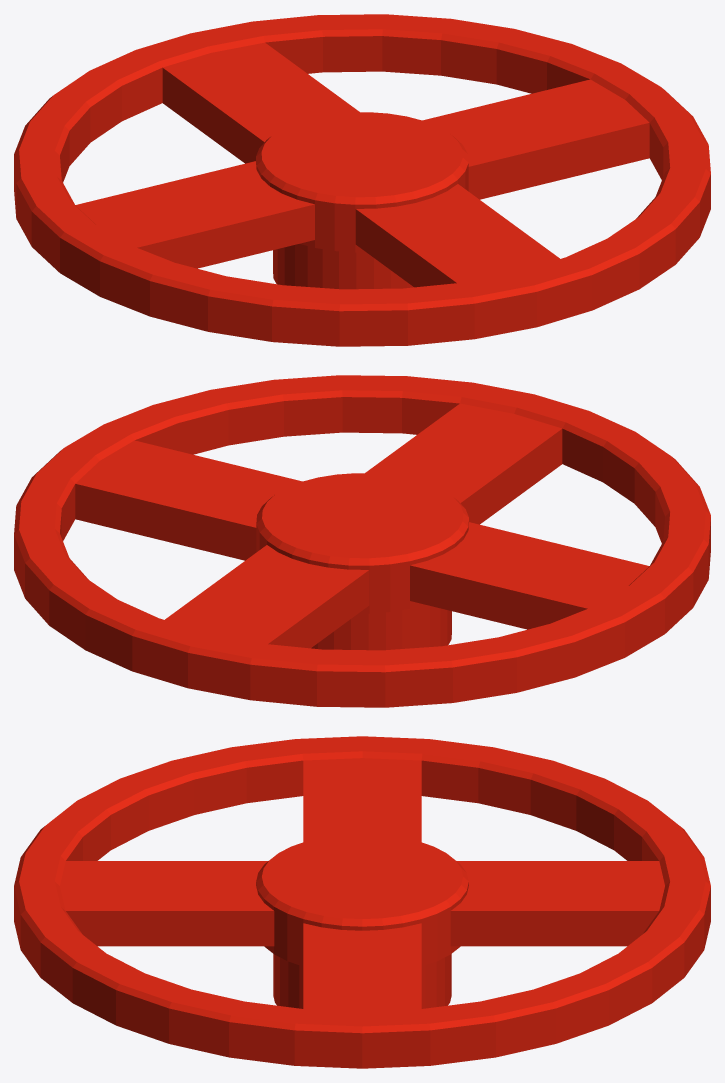
Rendered from valve_3.fbx.
3 renders of one model, top to bottom at view 1: azimuth 30°, elevation 25°; view 2: azimuth 150°, elevation 25°; view 3: azimuth 270°, elevation 25°, orthographic.
Visible parts, largest first — view 1: Cylinder.006; view 2: Cylinder.006; view 3: Cylinder.006.
Part boxes in pixels (x1=…): Cylinder.006: x1=14, y1=14, x2=710, y2=346; Cylinder.006: x1=14, y1=375, x2=710, y2=707; Cylinder.006: x1=14, y1=736, x2=710, y2=1068.
Bounding box in the file's own units: 135 × 25.45 × 135.
